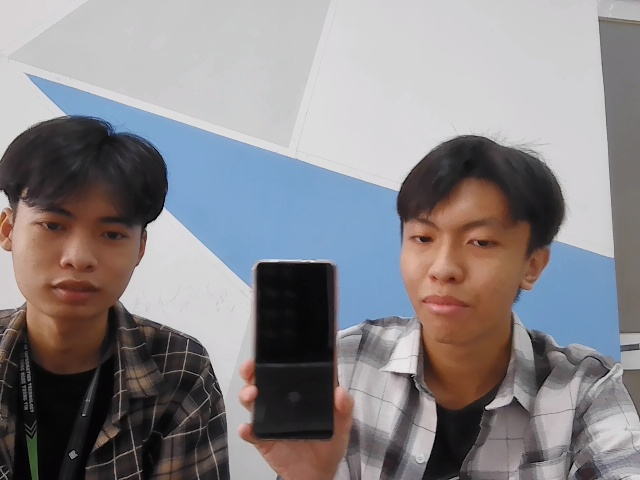human: (392, 129, 557, 353), (6, 113, 168, 321)
phone: (247, 258, 350, 443)
